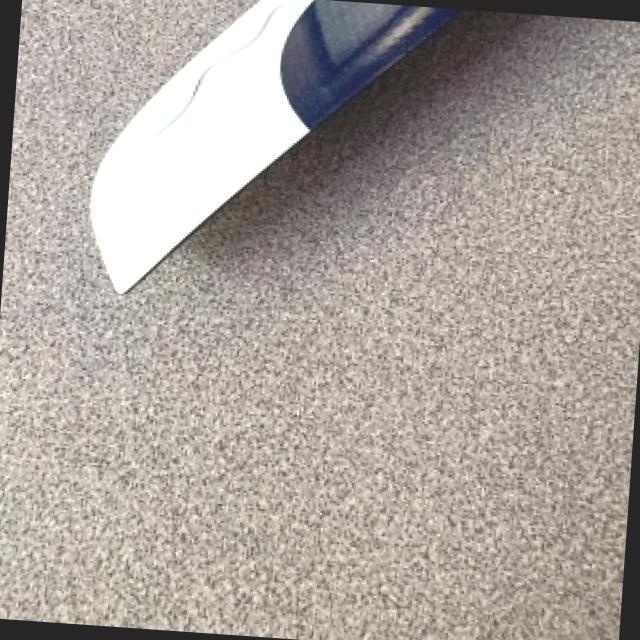healthy: (88, 0, 457, 291)
